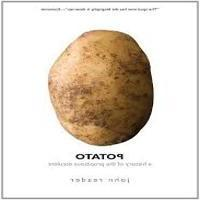biodegradable: (48, 28, 155, 146)
